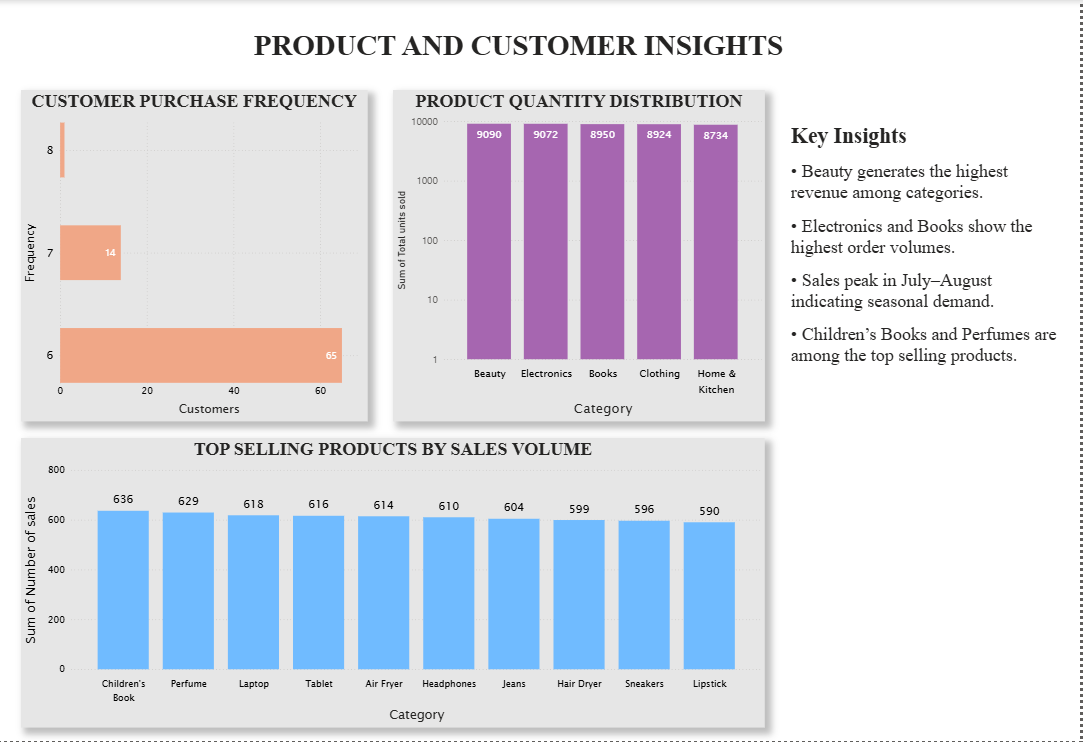

Layout of this report page (visuals, bound fields, positions):
{"tool":"powerbi","page":{"name":"Amazon India Sales 2025 Dashboard 2","canvas":[1600,1100],"ordinal":1},"visuals":[{"type":"barChart","title":"CUSTOMER PURCHASE FREQUENCY","fields":{"Y":["CountNonNull(Customer Purchase Frequency.Customer ID)"],"Category":["Customer Purchase Frequency.Frequency"]},"box":[31.1,133.4,513.7,491.5],"z":0},{"type":"columnChart","title":"PRODUCT QUANTITY DISTRIBUTION","fields":{"Category":["Product quantity distribution.Category"],"Y":["Sum(Product quantity distribution.Total units sold)"]},"box":[582.6,133.4,551.5,491.5],"z":1000},{"type":"textbox","box":[254.1,38.2,1030,74.2],"z":2000},{"type":"columnChart","title":"TOP SELLING PRODUCTS BY SALES VOLUME","fields":{"Y":["Sum(Top selling products.Number of sales)"],"Category":["Top selling products.Category"]},"box":[31.1,649.3,1103,429.2],"z":3000},{"type":"textbox","box":[1167.5,177.9,406.9,404.7],"z":4000}]}

Visuals, with their boxes in screenshot pixels (x1, y1, x2, y2), scaled from the page's 1600x1100 canvas onto the 1083x742 screenshot:
"CUSTOMER PURCHASE FREQUENCY" barChart: detection(21, 90, 369, 422)
"PRODUCT QUANTITY DISTRIBUTION" columnChart: detection(394, 90, 768, 422)
textbox: detection(172, 26, 869, 76)
"TOP SELLING PRODUCTS BY SALES VOLUME" columnChart: detection(21, 438, 768, 727)
textbox: detection(790, 120, 1066, 393)
